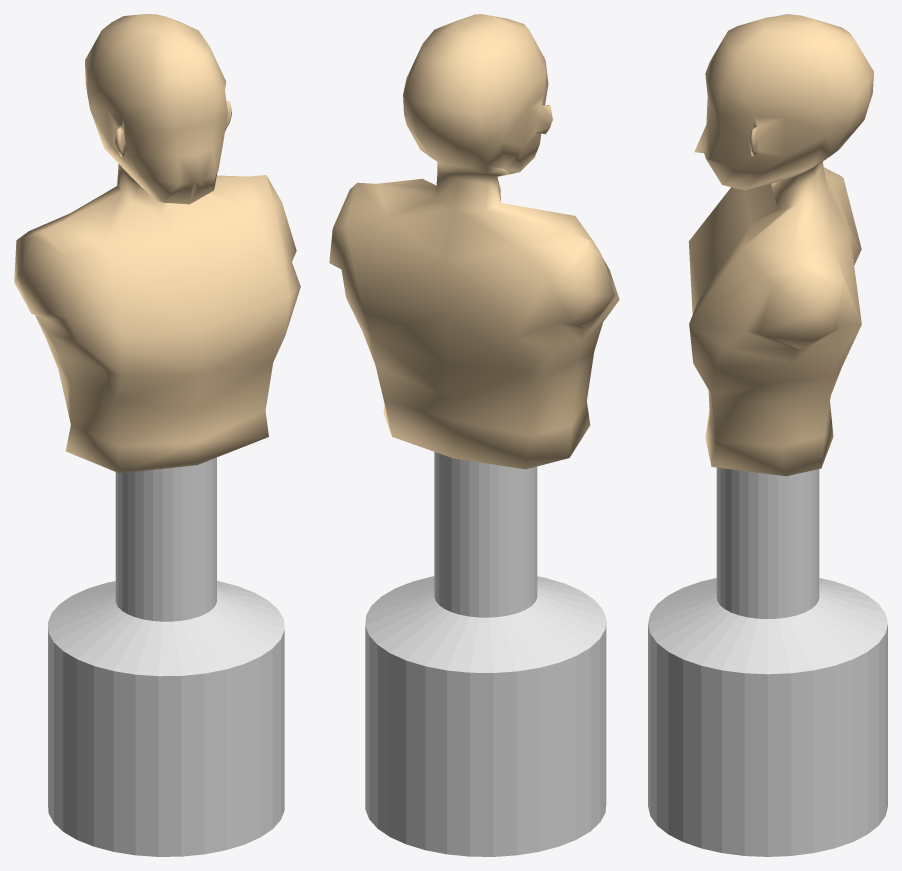
The model's file is BOB.fbx.
The picture shows the model from 3 angles, left to right: view 1: azimuth 30°, elevation 25°; view 2: azimuth 150°, elevation 25°; view 3: azimuth 270°, elevation 25°; orthographic projection.
Visible parts, largest first — view 1: Body, Cylinder; view 2: Body, Cylinder; view 3: Cylinder, Body.
Part boxes in pixels (left/top/right/bottom): Body: left=14, top=14, right=300, bottom=473; Cylinder: left=48, top=457, right=284, bottom=856; Body: left=329, top=14, right=619, bottom=469; Cylinder: left=365, top=452, right=606, bottom=856; Cylinder: left=648, top=467, right=887, bottom=856; Body: left=688, top=14, right=873, bottom=476.
Size of the model in its own units: 65.42 by 191 by 52.33.
